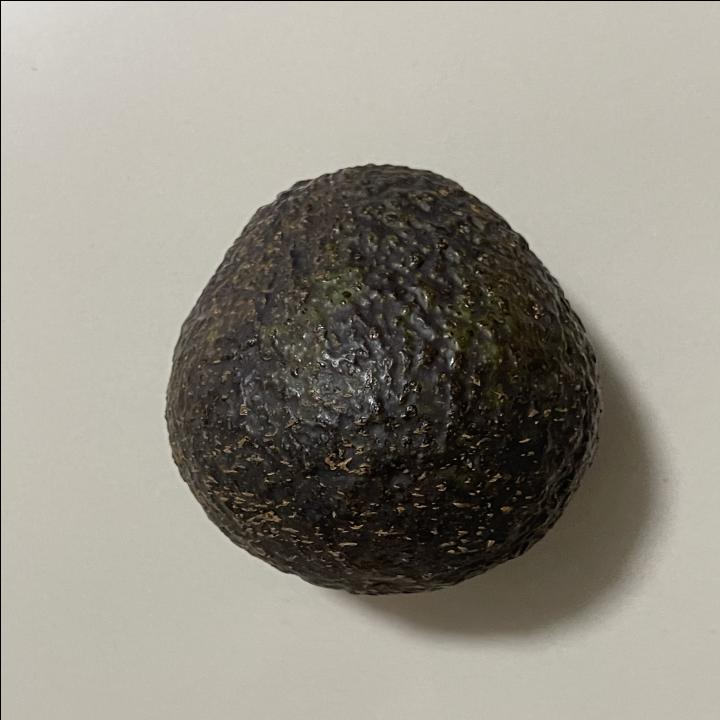Level3: (152, 154, 608, 604)
